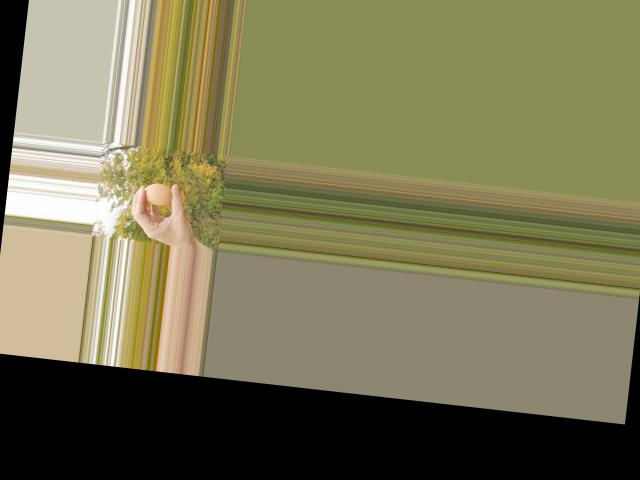egg: (142, 182, 173, 206)
